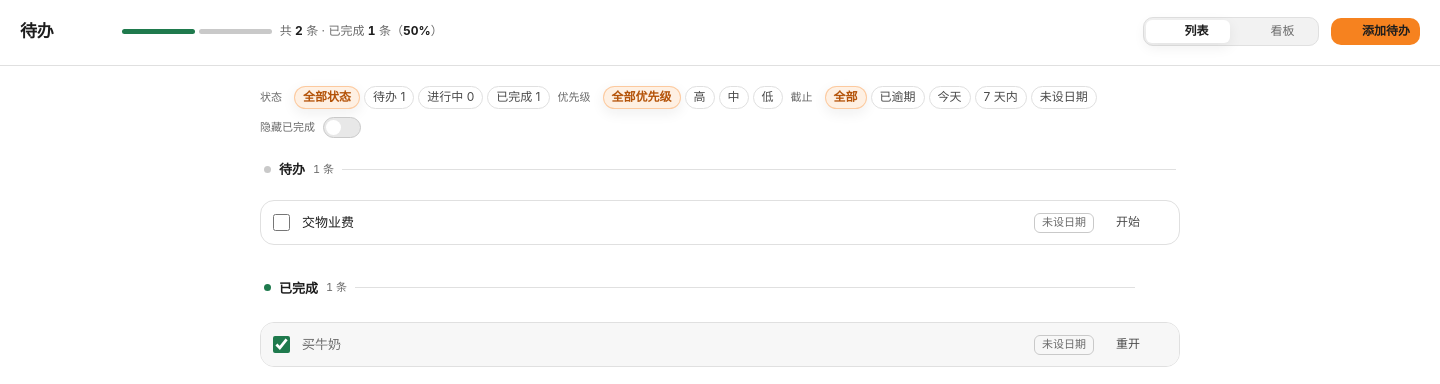
Test case: 看板 › 三列固定顺序：待办 / 进行中 / 已完成，空列也保留
What coordinates should you click on to do the following:
click the button "看板"
I would click on:
 (1274, 31)
Its box is [1232, 20, 1316, 42].
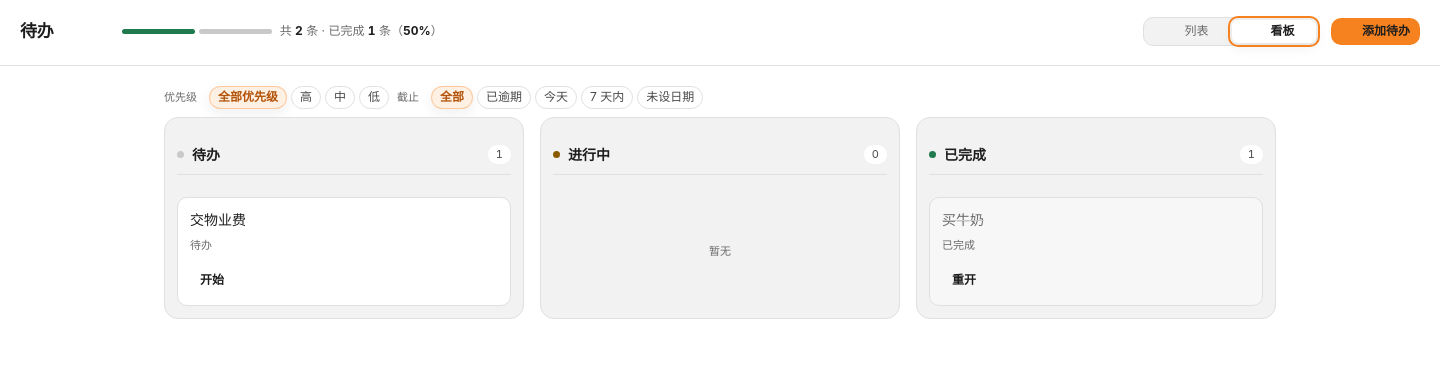
Check: the element with class "kanban__col" shows "暂无", box [709, 244, 731, 258]
